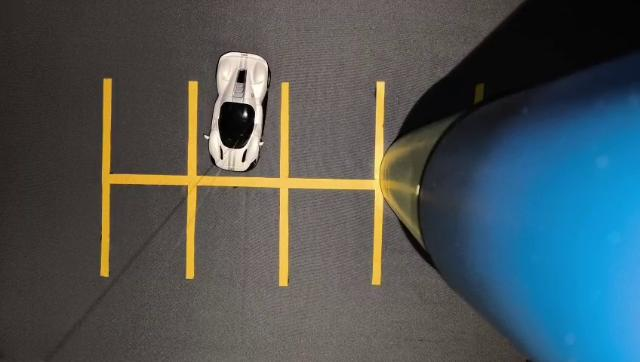toy_car: (198, 30, 295, 185)
